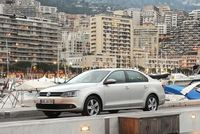car: (36, 67, 166, 120)
